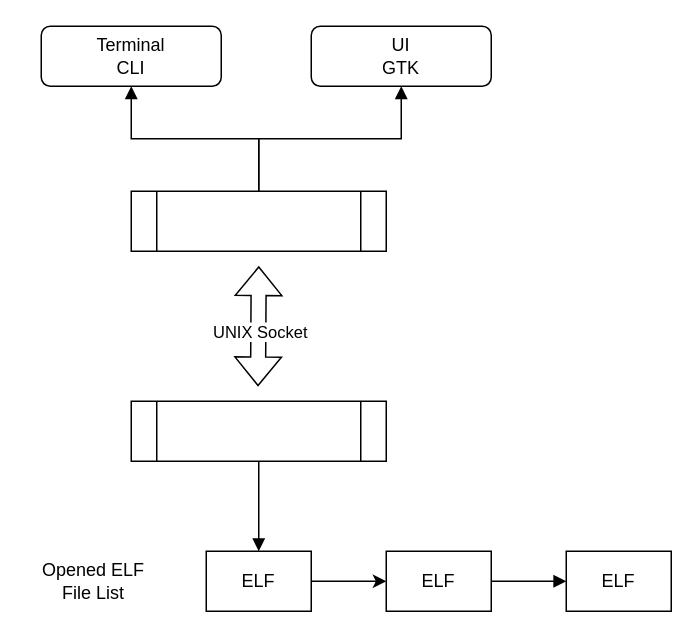
Image size: 698x638. Some labels were removed from this diagram. The shapes that lost their labels are listed below. From the top down, each one's box as (x1, y1, x2, y2) in pixels, then its label:
(130, 190, 386, 251): main thread
(130, 400, 386, 461): ELF main thread
